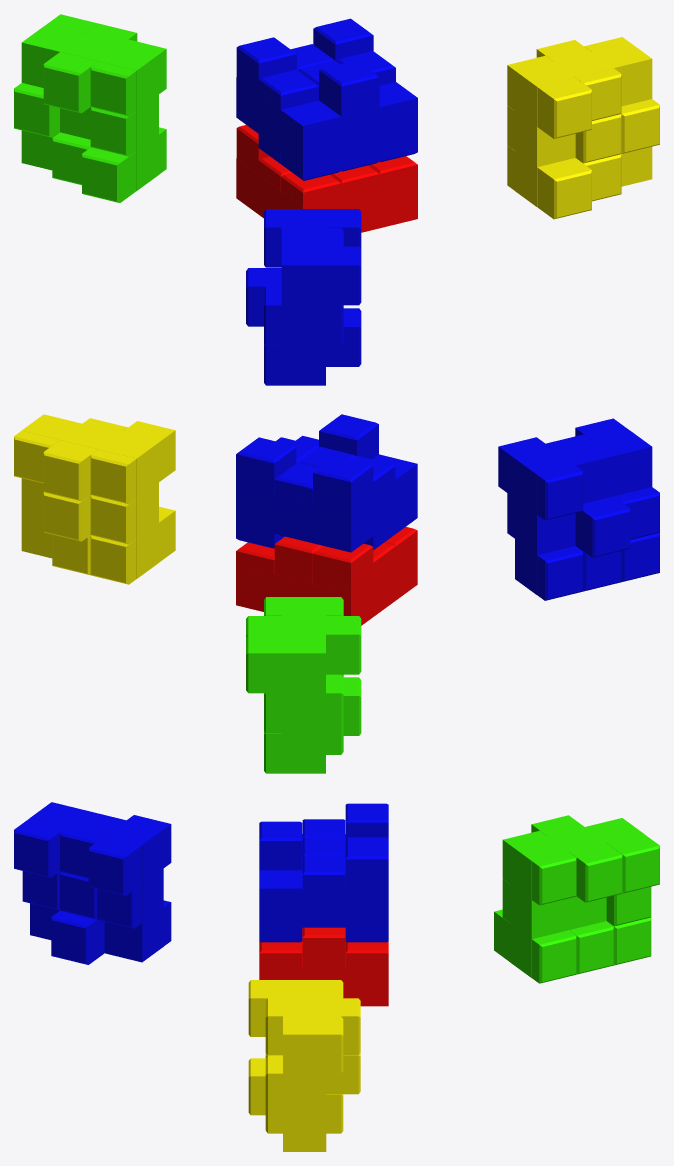
File: stage_2.obj
3 views of the same model, one above another, from view 1: azimuth 30°, elevation 25°; view 2: azimuth 150°, elevation 25°; view 3: azimuth 270°, elevation 25° (orthographic). The views are drawn at different scales.
Parts seen in each view (by area): view 1: object_1, object_2, object_5, object_3, object_4; view 2: object_3, object_2, object_5, object_1, object_4; view 3: object_1, object_3, object_2, object_5, object_4.
Part boxes in pixels (left/top/right/bottom): object_1: left=14, top=14, right=166, bottom=202; object_2: left=507, top=37, right=659, bottom=219; object_5: left=236, top=18, right=417, bottom=180; object_3: left=246, top=209, right=361, bottom=385; object_4: left=236, top=125, right=417, bottom=232; object_3: left=498, top=418, right=659, bottom=600; object_2: left=14, top=414, right=175, bottom=584; object_5: left=236, top=414, right=417, bottom=552; object_1: left=246, top=597, right=361, bottom=773; object_4: left=236, top=527, right=417, bottom=625; object_1: left=494, top=815, right=659, bottom=983; object_3: left=14, top=802, right=171, bottom=964; object_2: left=248, top=980, right=360, bottom=1151; object_5: left=259, top=803, right=388, bottom=942; object_4: left=259, top=927, right=388, bottom=1006.
Bounding box in the file's own units: 65.37 × 22.71 × 74.87.
